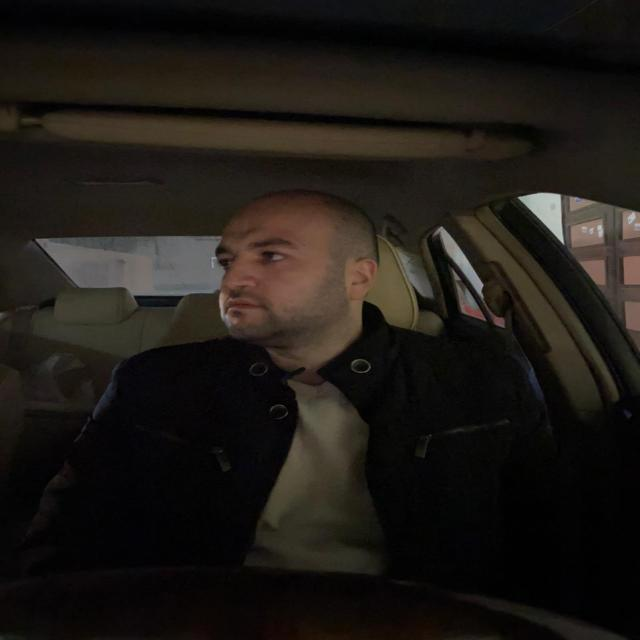LeftRight: (186, 169, 400, 381)
